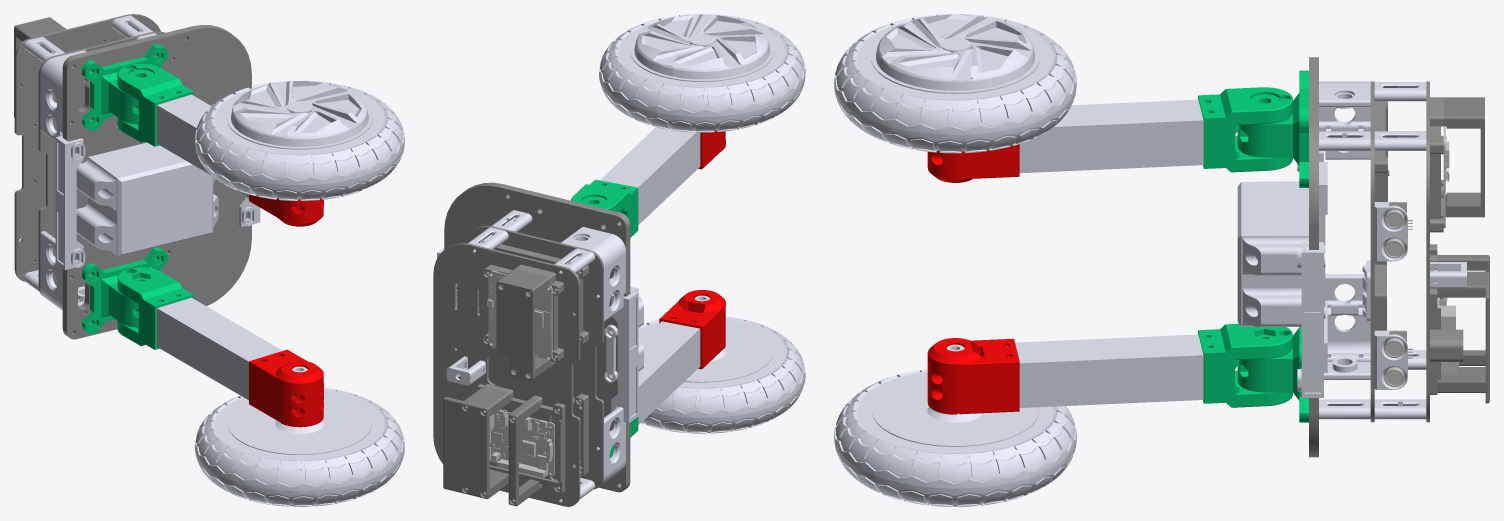
File: HoverRobot.glb
The picture shows the model from 3 angles, left to right: view 1: azimuth 30°, elevation 25°; view 2: azimuth 150°, elevation 25°; view 3: azimuth 270°, elevation 25°; orthographic projection. The views are drawn at different scales.
Visible parts, largest first — view 1: empty_306, empty_289, empty_307, empty_213, empty_274, empty_301, empty_295, empty_293, empty_291, empty_290, empty_292, empty_300 (+10 smaller); view 2: empty_306, empty_274, empty_307, empty_289, empty_214, empty_297, empty_300, empty_33, empty_301, empty_295, empty_288, empty_302 (+15 smaller); view 3: empty_306, empty_307, empty_301, empty_300, empty_213, empty_293, empty_291, empty_302, empty_285, empty_294, empty_292, empty_288 (+22 smaller).
Part boxes in pixels (x1,y1,x2,y2): empty_306: [195, 80, 404, 200]; empty_289: [62, 25, 251, 339]; empty_307: [195, 366, 404, 506]; empty_213: [76, 142, 218, 256]; empty_274: [14, 14, 161, 281]; empty_301: [157, 297, 282, 400]; empty_295: [55, 135, 85, 269]; empty_293: [117, 63, 193, 146]; empty_291: [117, 267, 193, 349]; empty_290: [82, 247, 168, 334]; empty_292: [82, 44, 168, 131]; empty_300: [157, 94, 248, 196]; empty_306: [599, 14, 805, 132]; empty_274: [433, 243, 580, 506]; empty_307: [638, 295, 805, 433]; empty_289: [444, 182, 630, 492]; empty_214: [457, 226, 603, 489]; empty_297: [443, 386, 510, 498]; empty_300: [600, 127, 700, 224]; empty_33: [496, 268, 550, 380]; empty_301: [638, 319, 700, 424]; empty_295: [611, 290, 638, 423]; empty_288: [561, 227, 625, 321]; empty_302: [659, 294, 723, 369]; empty_306: [834, 14, 1076, 153]; empty_307: [834, 344, 1076, 506]; empty_301: [1006, 334, 1203, 407]; empty_300: [1019, 99, 1203, 173]; empty_213: [1237, 181, 1308, 326]; empty_293: [1198, 87, 1292, 172]; empty_291: [1198, 323, 1292, 407]; empty_302: [953, 338, 1019, 414]; empty_285: [1324, 274, 1370, 379]; empty_294: [1297, 242, 1323, 397]; empty_292: [1237, 70, 1308, 187]; empty_288: [1319, 81, 1370, 159].
Size of the model in its own units: 0.2175 by 0.393 by 0.5315.
